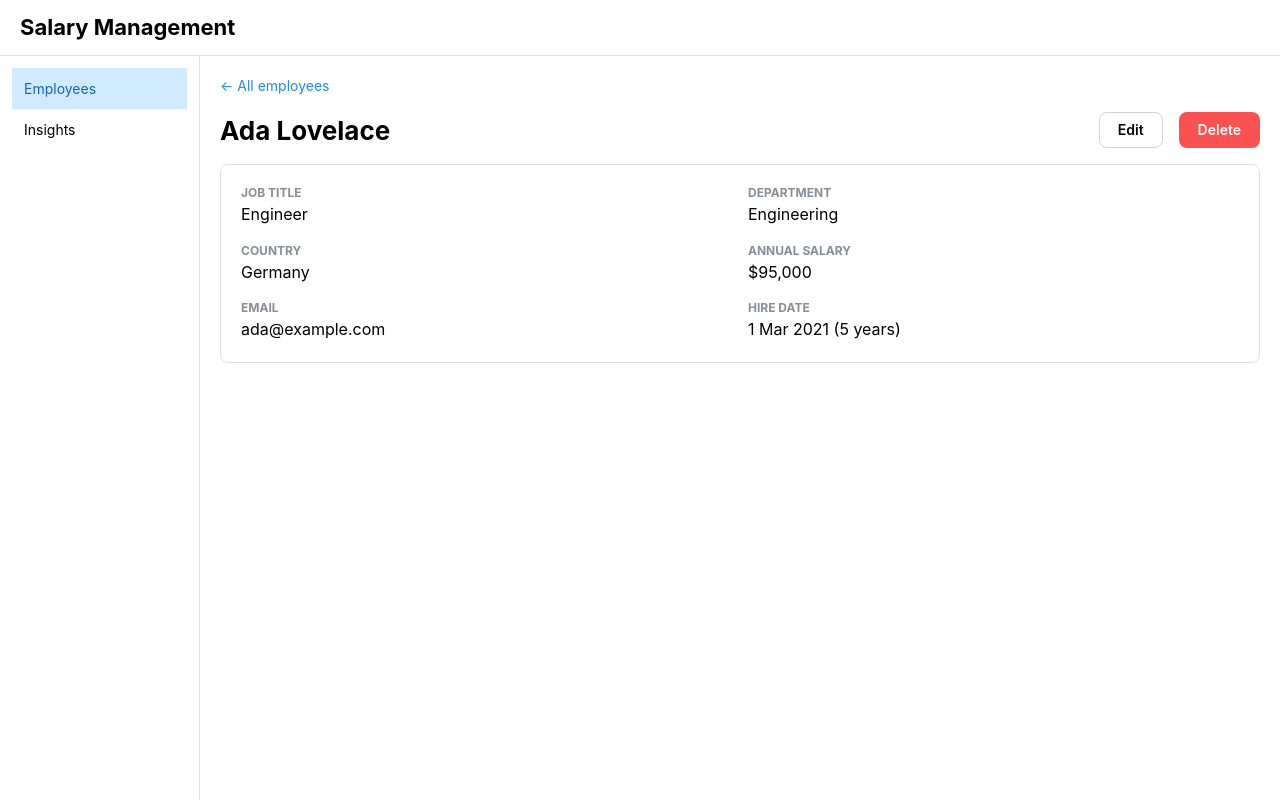
Test: EmployeeDetailPage › asks for confirmation before deleting
The width and height of the screenshot is (1280, 800).
Click the button "Delete" at (1219, 130), box [1179,112,1260,148]
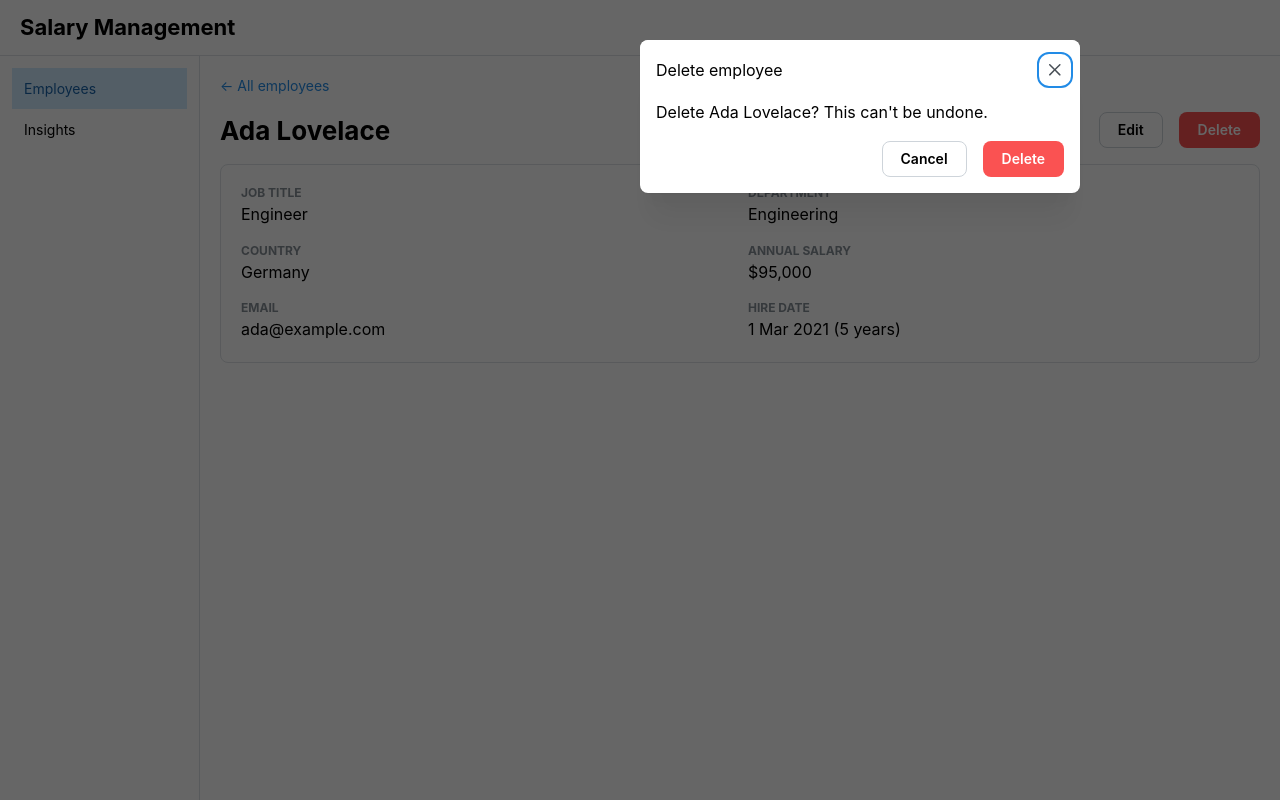
Expected: the text "Delete Ada Lovelace? This can't be undone." is shown, [656,102,988,122]
Click the button "Cancel" at (924, 159), box [882,141,966,177]
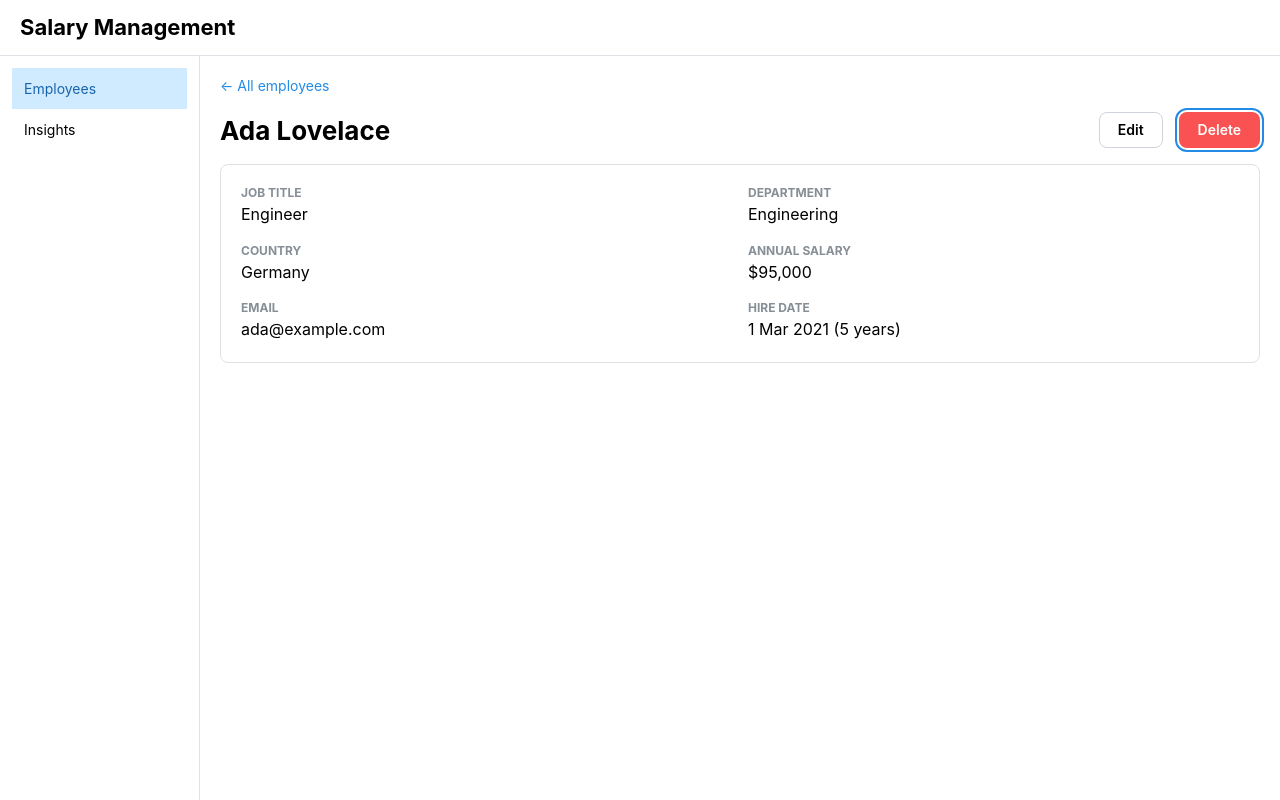
Expected: the dialog is gone
Click the button "Delete" at (1219, 130), box [1179,112,1260,148]
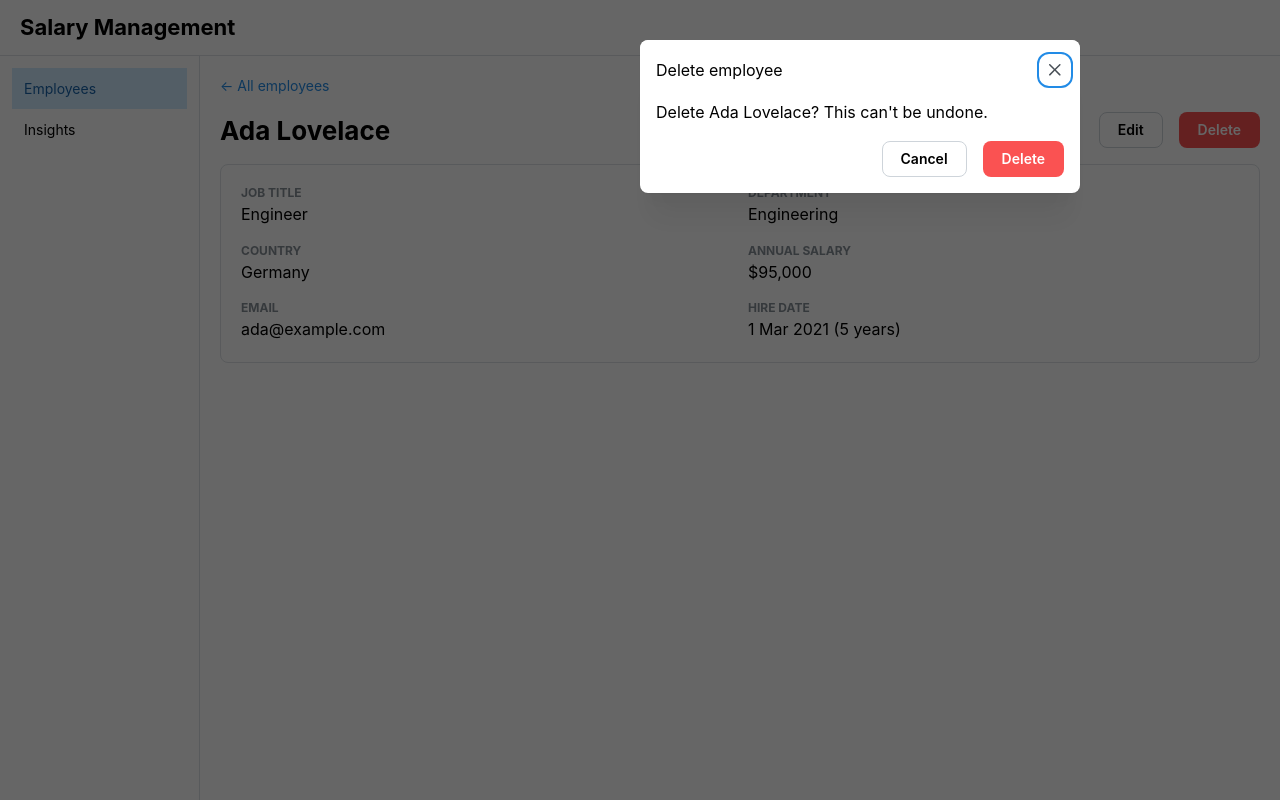
Click the button "Delete" at (1023, 159), box [983,141,1064,177]
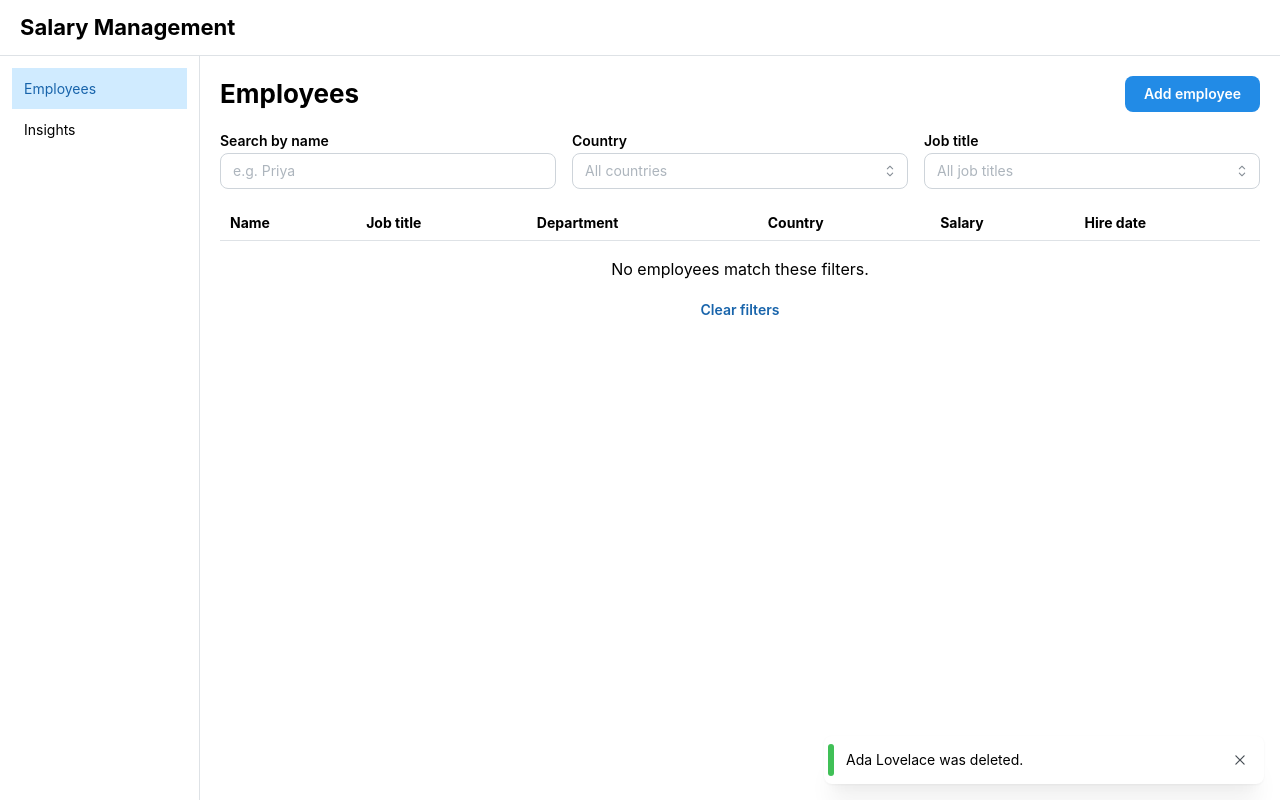
Expected: the heading "Employees" is shown, [220,76,359,112]
